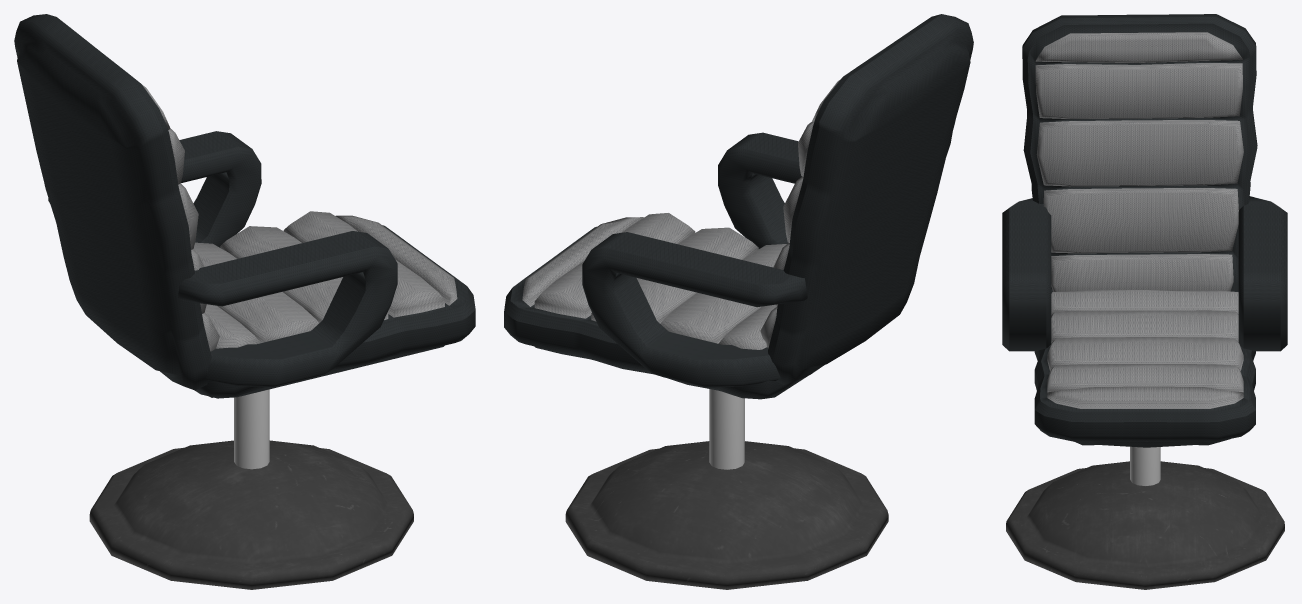
File: ChairB_geo.fbx
3 views of the same model, side by side, from view 1: azimuth 30°, elevation 25°; view 2: azimuth 150°, elevation 25°; view 3: azimuth 270°, elevation 25° (orthographic). The views are drawn at different scales.
Parts seen in each view (by area): view 1: Chair_Stand; view 2: Chair_Stand; view 3: Chair_Stand.
Part boxes in pixels (left/top/right/bottom): Chair_Stand: left=14, top=14, right=475, bottom=589; Chair_Stand: left=504, top=14, right=973, bottom=589; Chair_Stand: left=1002, top=14, right=1287, bottom=589.
Size of the model in its own units: 88.95 by 118 by 68.65.
Materials: 1 (1 with a texture image).
